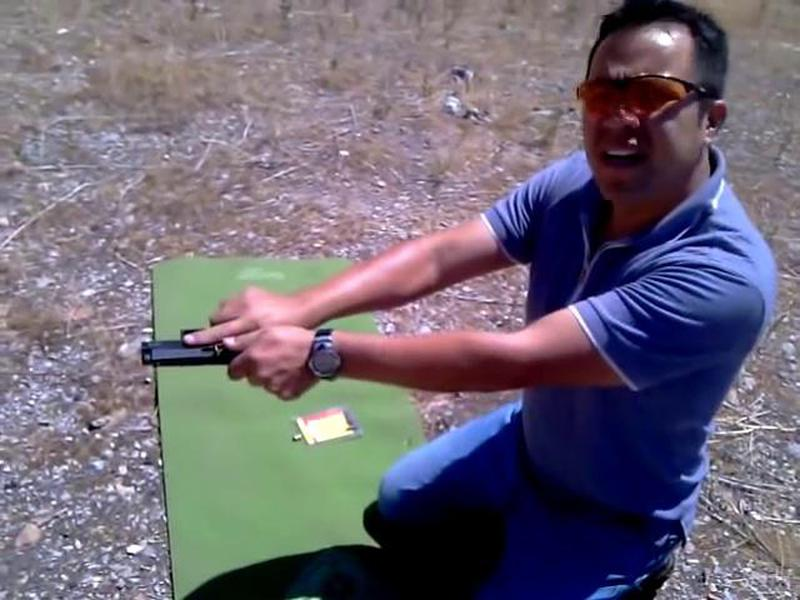Pistola: (135, 297, 266, 384)
